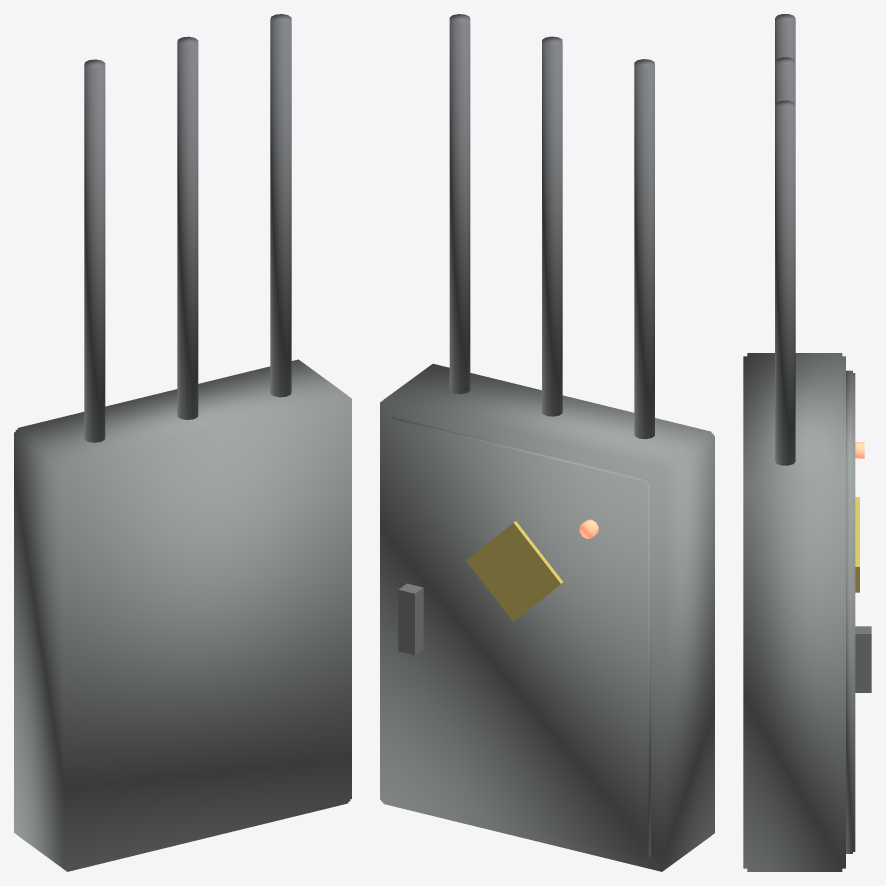
The model's file is electrical_panel_96.glb.
3 renders of one model, left to right at view 1: azimuth 30°, elevation 25°; view 2: azimuth 150°, elevation 25°; view 3: azimuth 270°, elevation 25°, orthographic. The views are drawn at different scales.
Visible parts, largest first — view 1: CabinetBody, ConduitTop_0.22, ConduitTop_0.0, ConduitTop_-0.22; view 2: CabinetDoor, CabinetBody, ConduitTop_0.22, ConduitTop_0.0, ConduitTop_-0.22, WarningPlaque, LatchHandle; view 3: CabinetBody, ConduitTop_0.22, CabinetDoor, LatchHandle, ConduitTop_-0.22, ConduitTop_0.0, WarningPlaque.
Part boxes in pixels (x1=…): CabinetBody: x1=14, y1=359, x2=351, y2=871; ConduitTop_0.22: x1=270, y1=14, x2=291, y2=397; ConduitTop_0.0: x1=177, y1=36, x2=198, y2=419; ConduitTop_-0.22: x1=84, y1=59, x2=105, y2=442; CabinetDoor: x1=387, y1=417, x2=650, y2=859; CabinetBody: x1=380, y1=363, x2=714, y2=871; ConduitTop_0.22: x1=449, y1=14, x2=470, y2=393; ConduitTop_0.0: x1=542, y1=36, x2=562, y2=416; ConduitTop_-0.22: x1=634, y1=59, x2=654, y2=439; WarningPlaque: x1=466, y1=521, x2=562, y2=621; LatchHandle: x1=398, y1=583, x2=423, y2=654; CabinetBody: x1=743, y1=353, x2=845, y2=871; ConduitTop_0.22: x1=775, y1=100, x2=795, y2=465; CabinetDoor: x1=846, y1=370, x2=855, y2=853; LatchHandle: x1=855, y1=626, x2=871, y2=692; ConduitTop_-0.22: x1=775, y1=14, x2=795, y2=60; ConduitTop_0.0: x1=775, y1=57, x2=795, y2=104; WarningPlaque: x1=855, y1=497, x2=859, y2=592.
Size of the model in its own units: 0.68 by 1.77 by 0.275.
